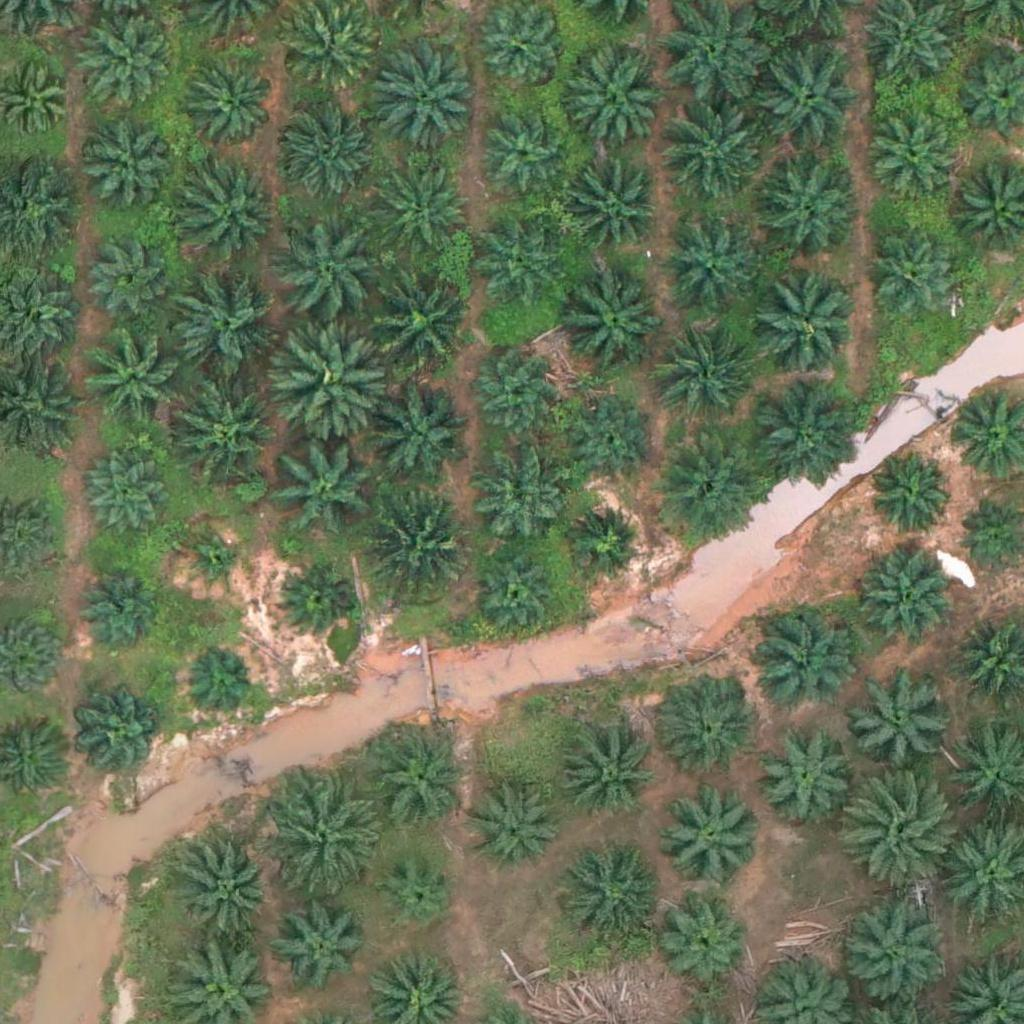Kelapa_Sawit: (174, 157, 287, 271), (750, 147, 863, 261), (266, 782, 379, 896), (280, 323, 393, 436), (554, 258, 667, 371), (653, 438, 766, 551), (754, 42, 867, 155), (742, 259, 855, 372), (279, 217, 391, 331), (173, 267, 285, 380), (172, 369, 284, 482), (275, 432, 387, 545), (368, 38, 480, 151), (368, 263, 480, 376), (366, 484, 478, 597), (556, 41, 668, 154), (659, 98, 771, 211), (647, 319, 759, 432), (746, 382, 858, 495), (837, 893, 949, 1006), (844, 773, 956, 886), (75, 13, 175, 114), (84, 326, 184, 427), (375, 152, 475, 253), (368, 386, 468, 487), (371, 730, 471, 831), (466, 453, 566, 554), (559, 153, 659, 254), (851, 669, 951, 770), (749, 608, 849, 709), (657, 673, 757, 774), (557, 722, 657, 823), (662, 783, 762, 884), (558, 843, 658, 944), (284, 103, 384, 203), (658, 211, 758, 311), (854, 555, 954, 655), (753, 724, 853, 824), (179, 839, 279, 939), (82, 113, 170, 201), (90, 234, 178, 322), (82, 454, 170, 542), (79, 693, 167, 781), (562, 498, 650, 586), (474, 106, 562, 194), (868, 109, 956, 197), (871, 229, 959, 317), (472, 785, 560, 873), (77, 560, 164, 648), (191, 66, 278, 154), (477, 224, 564, 312), (473, 349, 560, 437), (475, 553, 562, 641), (568, 394, 655, 482), (867, 452, 954, 540), (662, 895, 749, 983), (276, 906, 363, 994), (277, 561, 352, 637), (380, 855, 455, 931), (183, 644, 258, 719), (184, 533, 247, 596)
